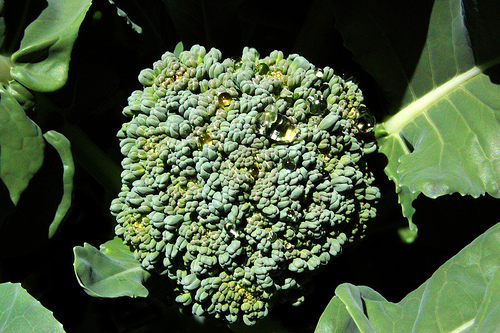broccoli: (113, 44, 386, 322)
